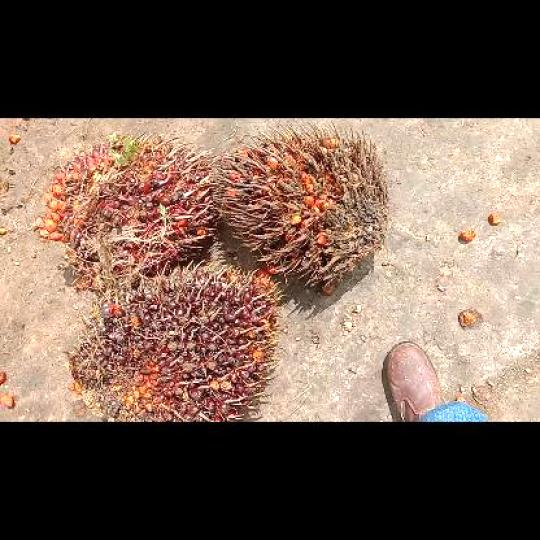kurang masak: (70, 265, 278, 420)
masak: (36, 134, 211, 281)
terlalu masak: (212, 130, 388, 286)
